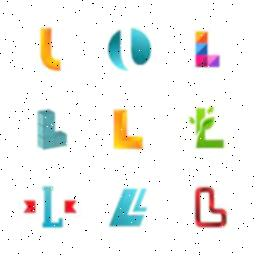l: (102, 177, 158, 233), (30, 104, 72, 154), (189, 182, 229, 234), (188, 23, 224, 79), (188, 104, 230, 152), (34, 23, 66, 77), (112, 104, 148, 152), (38, 179, 64, 235)
